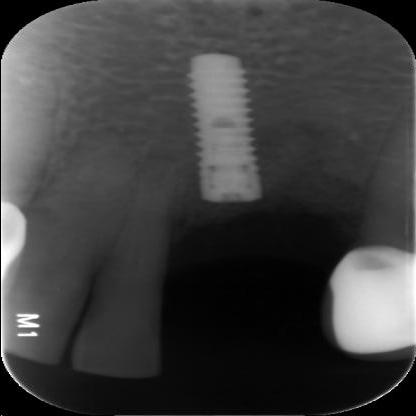ITI: (184, 54, 266, 205)
